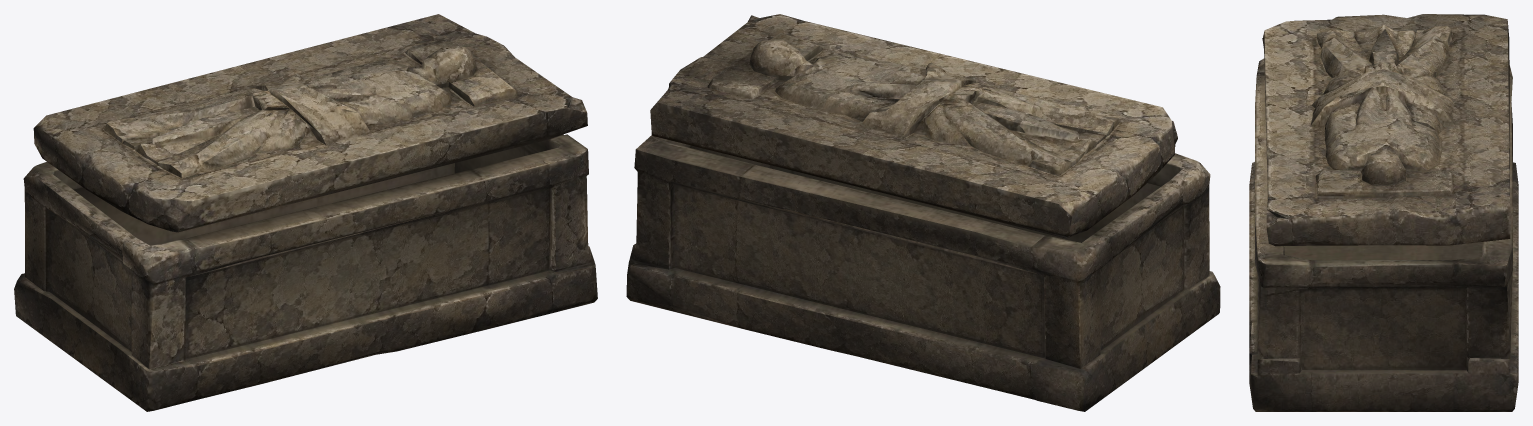
File: dungeon_sarcophagus.glb
3 views of the same model, side by side, from view 1: azimuth 30°, elevation 25°; view 2: azimuth 150°, elevation 25°; view 3: azimuth 270°, elevation 25° (orthographic). The views are drawn at different scales.
Visible parts, largest first — view 1: sarcophagus; view 2: sarcophagus; view 3: sarcophagus.
Part boxes in pixels (x1,y1,x2,y2): sarcophagus: (14, 14, 597, 411); sarcophagus: (626, 14, 1220, 411); sarcophagus: (1249, 14, 1518, 411).
Size of the model in its own units: 0.9995 by 0.4771 by 0.5259.
Materials: 1 (1 with a texture image).
